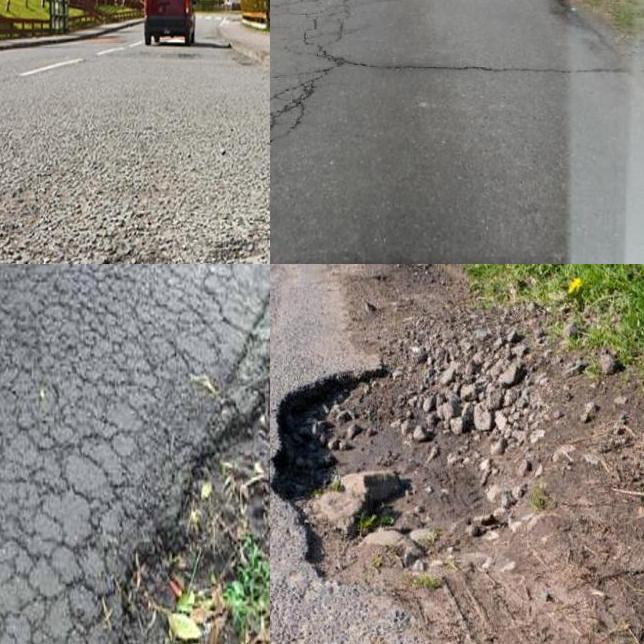Melintang: (328, 46, 638, 88)
Memanjang: (270, 58, 323, 164)
Pinggir: (32, 282, 270, 644), (270, 351, 508, 626)
Retak Buaya: (0, 264, 223, 644)
